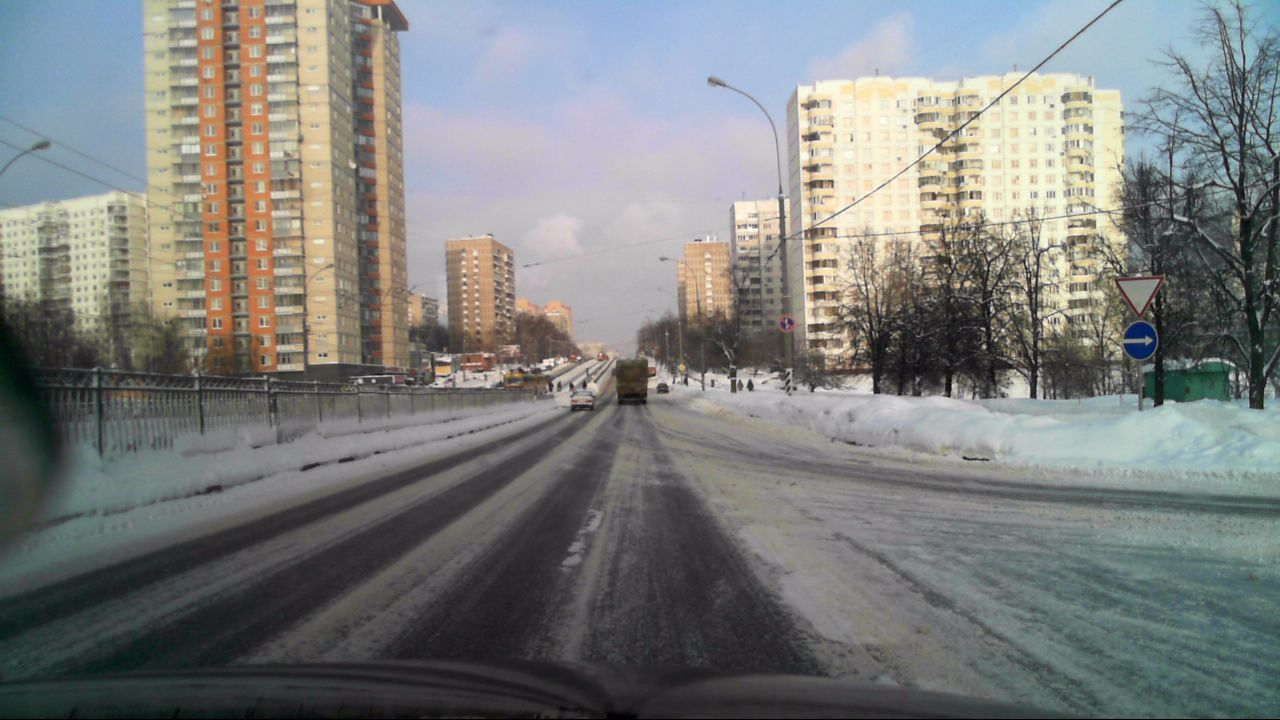Turn Right: (1122, 320, 1159, 361)
